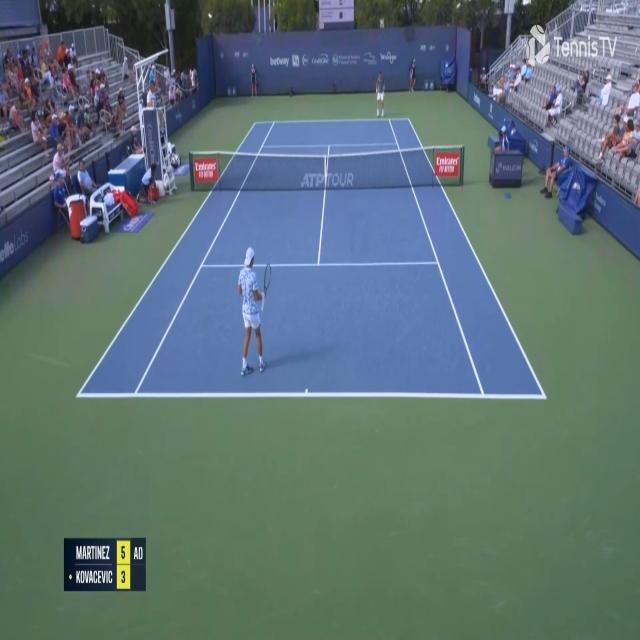tennis-player: (237, 243, 269, 380), (374, 69, 386, 118)
